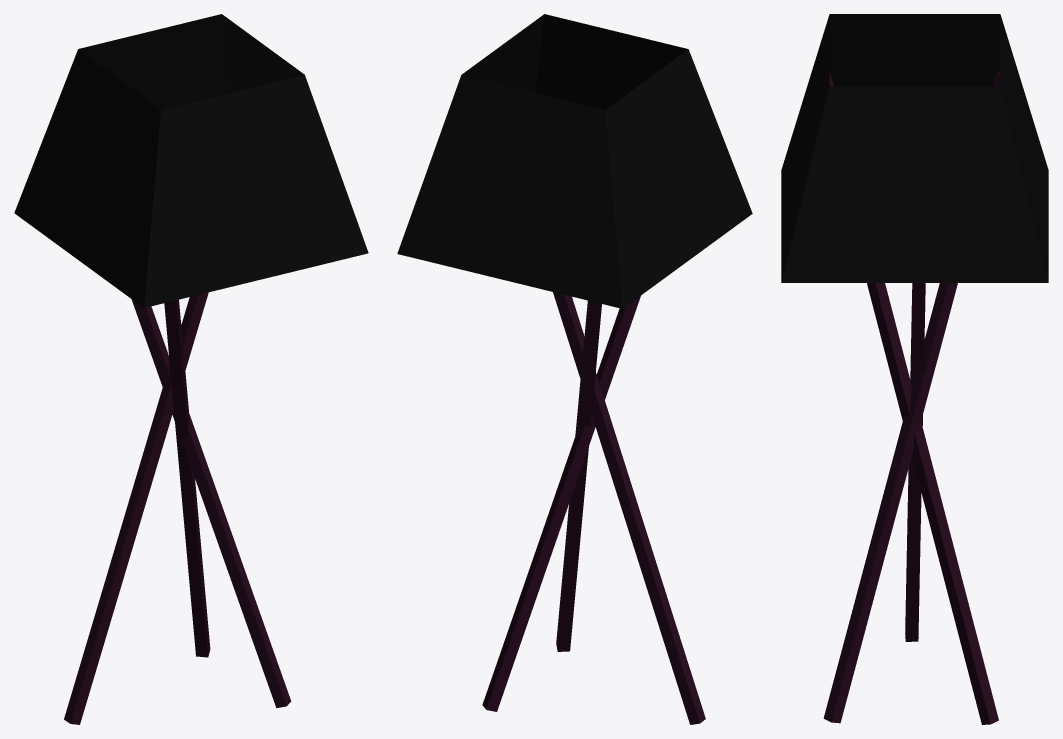
Rendered from office-lamp.gltf.
The picture shows the model from 3 angles, left to right: view 1: azimuth 30°, elevation 25°; view 2: azimuth 150°, elevation 25°; view 3: azimuth 270°, elevation 25°; orthographic projection. The views are drawn at different scales.
Visible parts, largest first — view 1: Cube, Cube.003, Cube.001, Cube.002; view 2: Cube, Cube.003, Cube.002, Cube.001; view 3: Cube, Cube.001, Cube.002, Cube.003.
Part boxes in pixels (bbox=[...]): Cube: bbox=[14, 14, 368, 307]; Cube.003: bbox=[64, 292, 208, 724]; Cube.001: bbox=[131, 299, 291, 708]; Cube.002: bbox=[164, 299, 210, 657]; Cube: bbox=[397, 14, 752, 308]; Cube.003: bbox=[553, 292, 705, 724]; Cube.002: bbox=[482, 296, 640, 711]; Cube.001: bbox=[556, 300, 601, 651]; Cube: bbox=[781, 14, 1048, 282]; Cube.001: bbox=[823, 71, 1000, 723]; Cube.002: bbox=[829, 73, 998, 724]; Cube.003: bbox=[905, 283, 925, 641].
Size of the model in its own units: 2.12 by 5.37 by 2.
